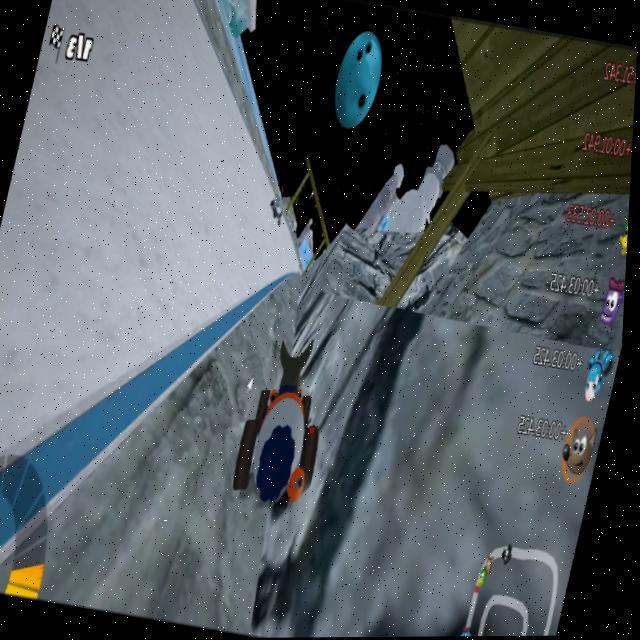enemy_kart: (262, 193, 291, 232)
off_track: (321, 205, 474, 356)
player_kart: (223, 330, 346, 533)
track: (14, 59, 271, 325)
